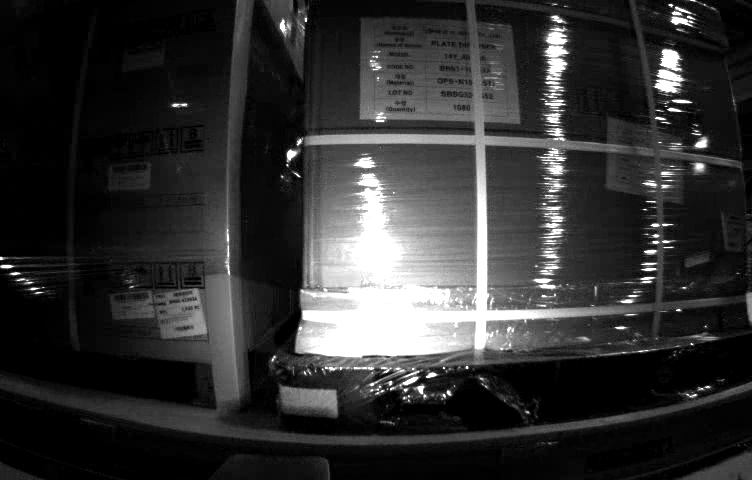True Barcode: (155, 289, 207, 340), (721, 211, 747, 254)
